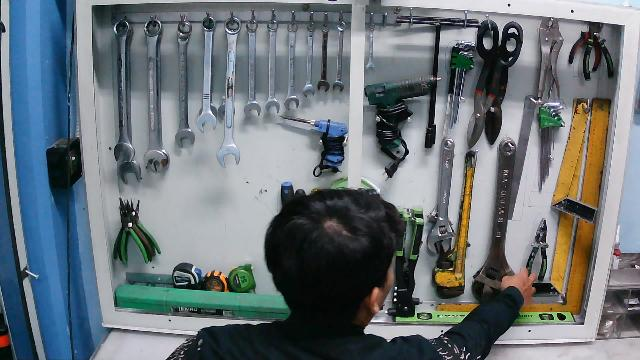tang_kombinasi: (521, 216, 550, 283)
